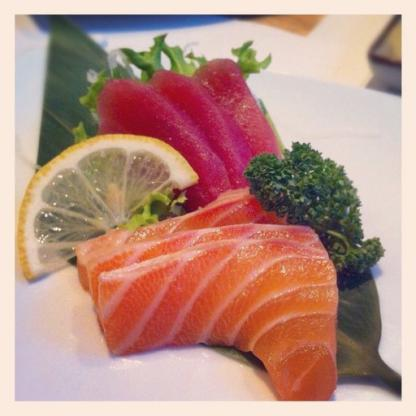lemon: (18, 137, 195, 283)
salmon: (73, 187, 338, 403)
tuna: (92, 63, 277, 204)
